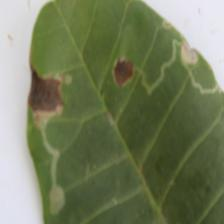leaf miner: (25, 0, 223, 223)
